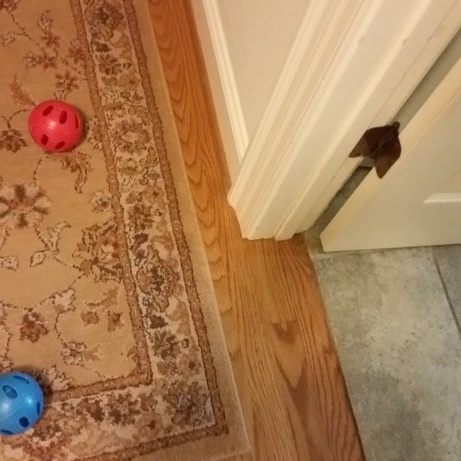blueball: (2, 366, 47, 433)
redball: (24, 96, 88, 154)
